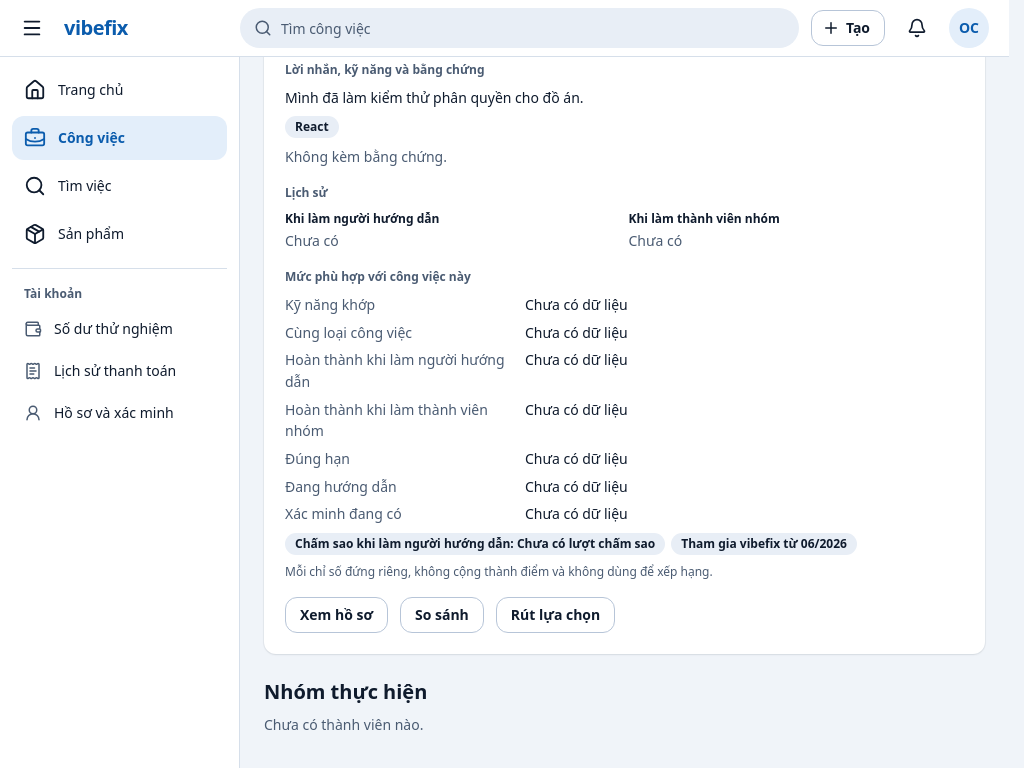
JOB-9 says why a pick was refused, and writes nothing (FR-81, AD-23, Story 21.5) › refuses to withdraw once the person signed first, since only they can leave
This screenshot has width=1024, height=768.
(page scrolled)
Click the button "Rút lựa chọn" at (556, 615), box 496,597 -> 615,633
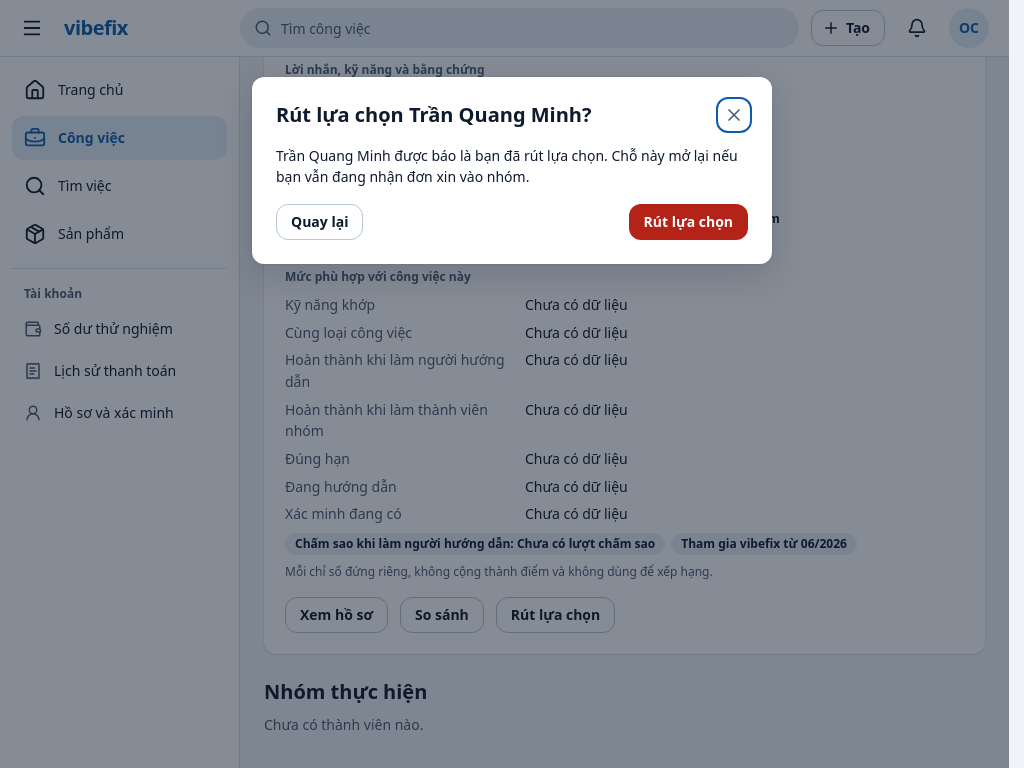
Click the button "Rút lựa chọn" at (688, 222), box 629,204 -> 748,240
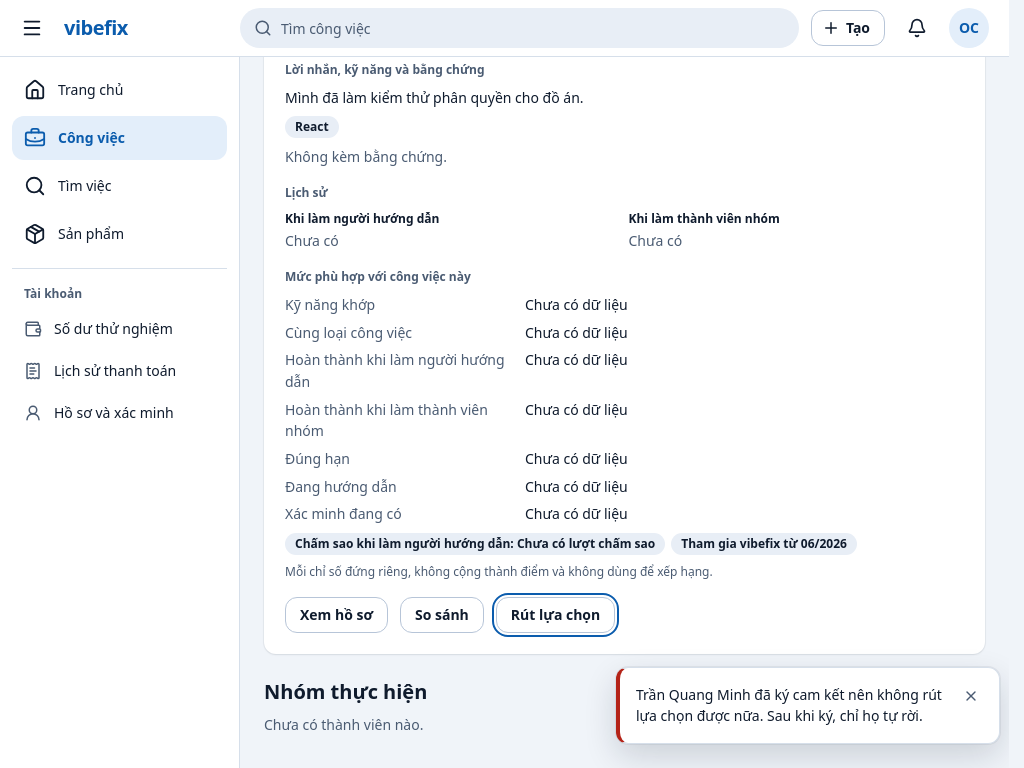
Check: the heading "Trần Quang Minh đã ký cam kết nên không rút lựa chọn được nữa. Sau khi ký, chỉ họ tự rời." is shown, box 636,685 -> 942,725
